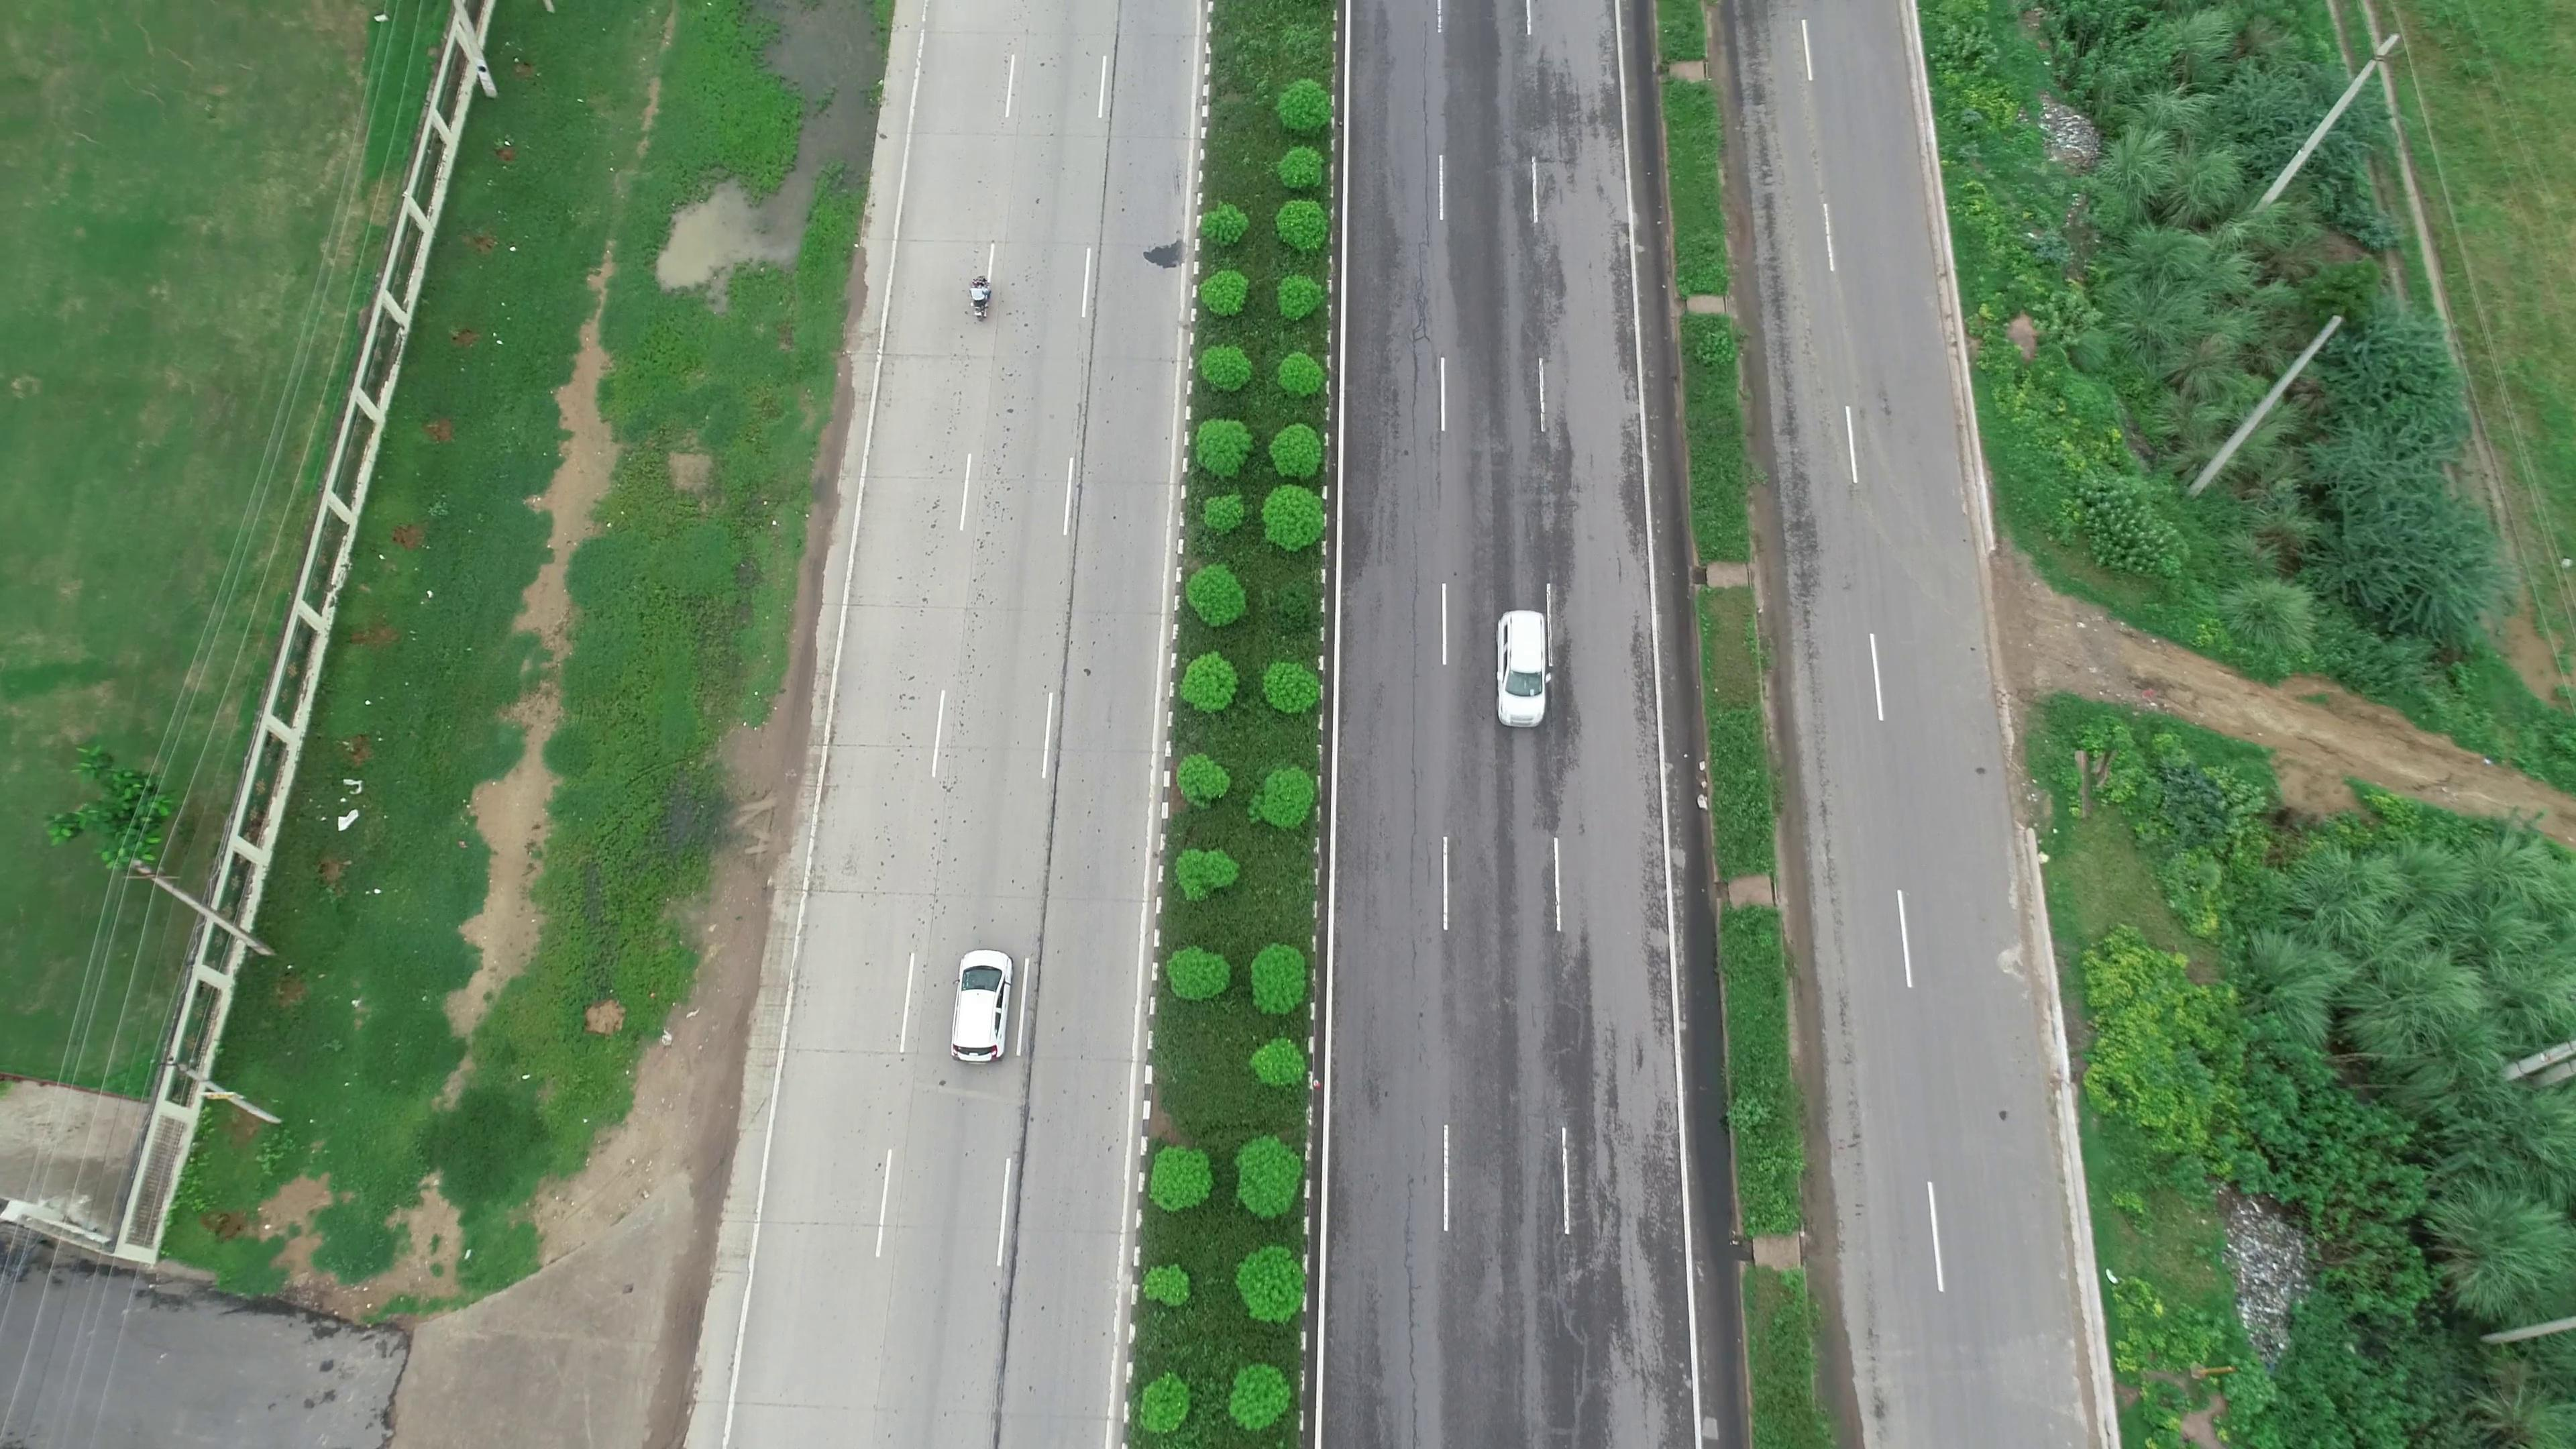Longitudinal_cracks: (1403, 7, 1437, 410)
